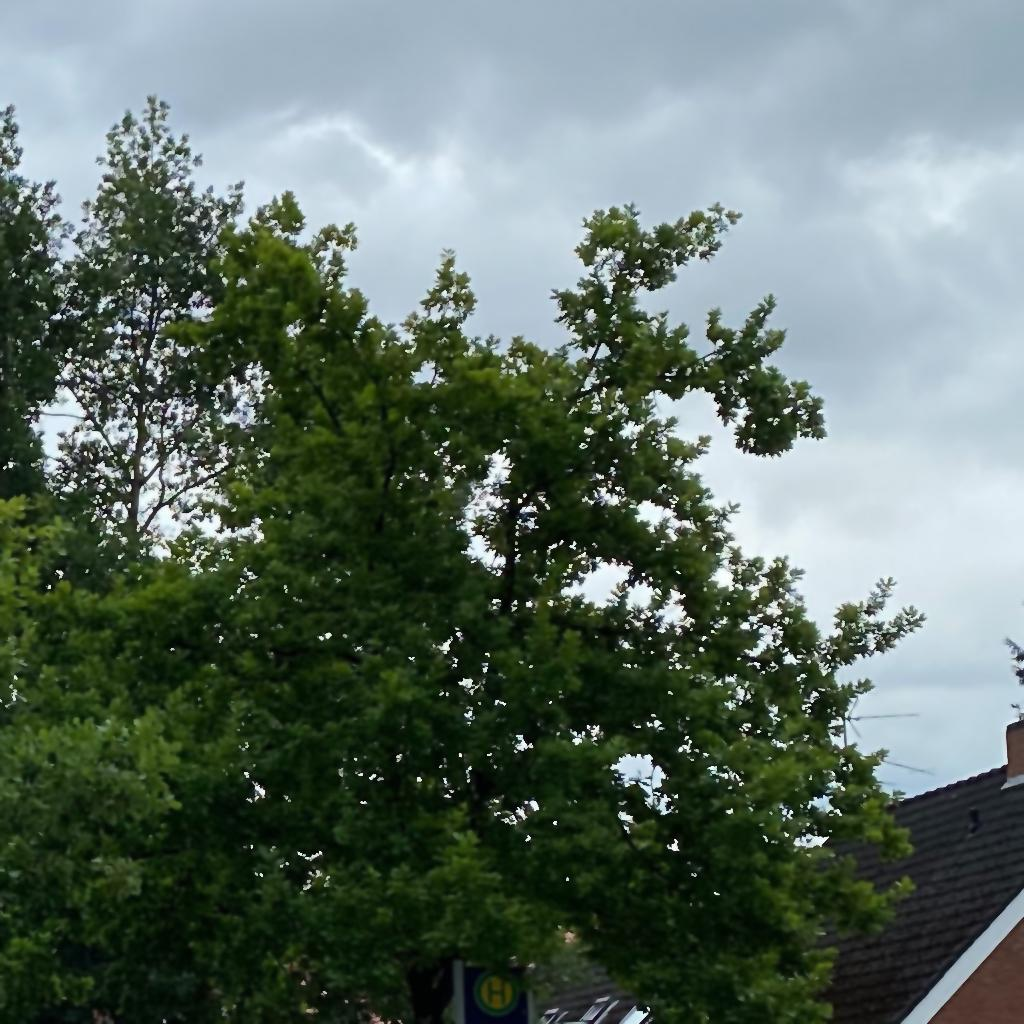tree: (1, 93, 927, 1023), (1, 223, 916, 1024)
